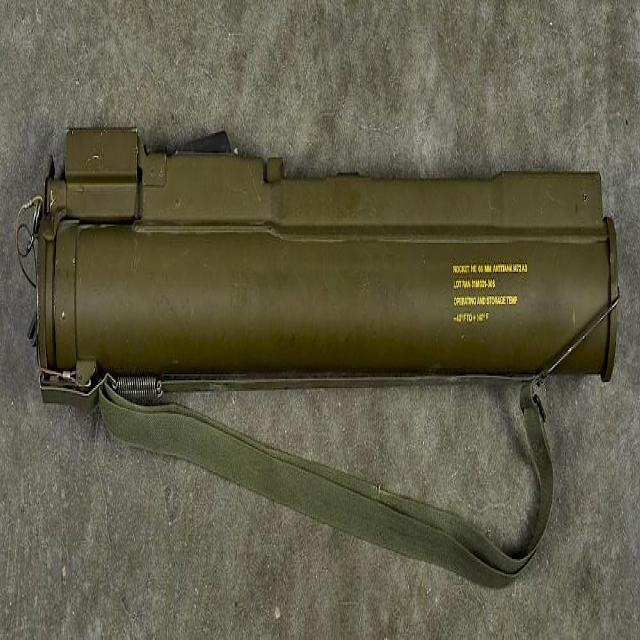bazooka: (16, 95, 630, 605)
